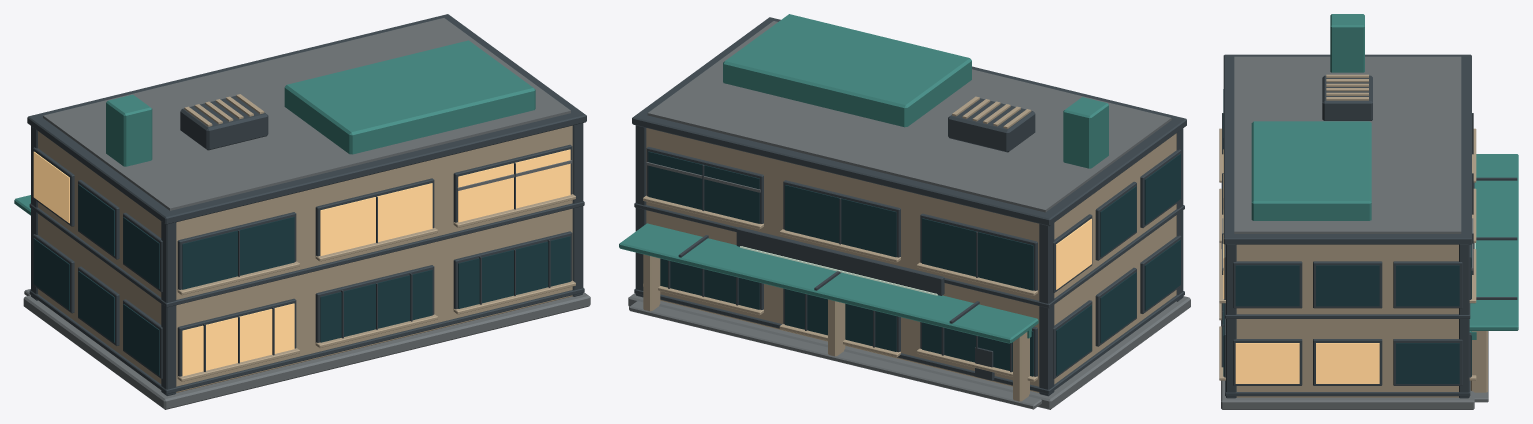
File: market_building.glb
3 views of the same model, side by side, from view 1: azimuth 30°, elevation 25°; view 2: azimuth 150°, elevation 25°; view 3: azimuth 270°, elevation 25° (orthographic). The views are drawn at different scales.
Parts seen in each view (by area): view 1: Structural_Shell, Batch_Foundation, Batch_Charcoal_Trim, Batch_Blue_Glazing, Batch_Painted_Accent, Batch_Warm_Window_Light, Roof_Parapet, Foundation, Batch_Warm_Mineral_Facade; view 2: Batch_Foundation, Batch_Painted_Accent, Batch_Blue_Glazing, Batch_Charcoal_Trim, Structural_Shell, Roof_Parapet, Batch_Warm_Mineral_Facade, Foundation, Entrance_Glass, Batch_Warm_Window_Light, Sign_Underline; view 3: Batch_Foundation, Batch_Painted_Accent, Structural_Shell, Batch_Charcoal_Trim, Batch_Blue_Glazing, Roof_Parapet, Batch_Warm_Window_Light, Batch_Warm_Mineral_Facade, Foundation.
Part boxes in pixels (box(x1,y1,x2,y2)): Structural_Shell: box(38, 125, 572, 392); Batch_Foundation: box(24, 18, 572, 295); Batch_Charcoal_Trim: box(29, 96, 584, 395); Batch_Blue_Glazing: box(33, 184, 570, 375); Batch_Painted_Accent: box(14, 40, 535, 215); Batch_Warm_Window_Light: box(33, 149, 570, 376); Roof_Parapet: box(27, 14, 586, 224); Foundation: box(23, 292, 590, 409); Batch_Warm_Mineral_Facade: box(177, 94, 575, 381); Batch_Foundation: box(629, 21, 1171, 409); Batch_Painted_Accent: box(619, 14, 1108, 343); Batch_Blue_Glazing: box(648, 151, 1180, 376); Batch_Charcoal_Trim: box(634, 98, 1184, 396); Structural_Shell: box(646, 128, 1176, 392); Roof_Parapet: box(632, 17, 1186, 225); Batch_Warm_Mineral_Facade: box(643, 96, 1037, 401); Foundation: box(628, 293, 1190, 409); Entrance_Glass: box(785, 289, 896, 351); Batch_Warm_Window_Light: box(1056, 218, 1091, 289); Sign_Underline: box(740, 246, 937, 295); Batch_Foundation: box(1222, 56, 1488, 402); Batch_Painted_Accent: box(1251, 14, 1518, 339); Structural_Shell: box(1236, 244, 1458, 397); Batch_Charcoal_Trim: box(1221, 75, 1517, 398); Batch_Blue_Glazing: box(1223, 89, 1471, 383); Roof_Parapet: box(1223, 54, 1471, 244); Batch_Warm_Window_Light: box(1223, 149, 1379, 383); Batch_Warm_Mineral_Facade: box(1219, 74, 1487, 392); Foundation: box(1221, 320, 1474, 409).
Size of what is drawn, in the model's own units: 16.5 by 9.1 by 11.21.
